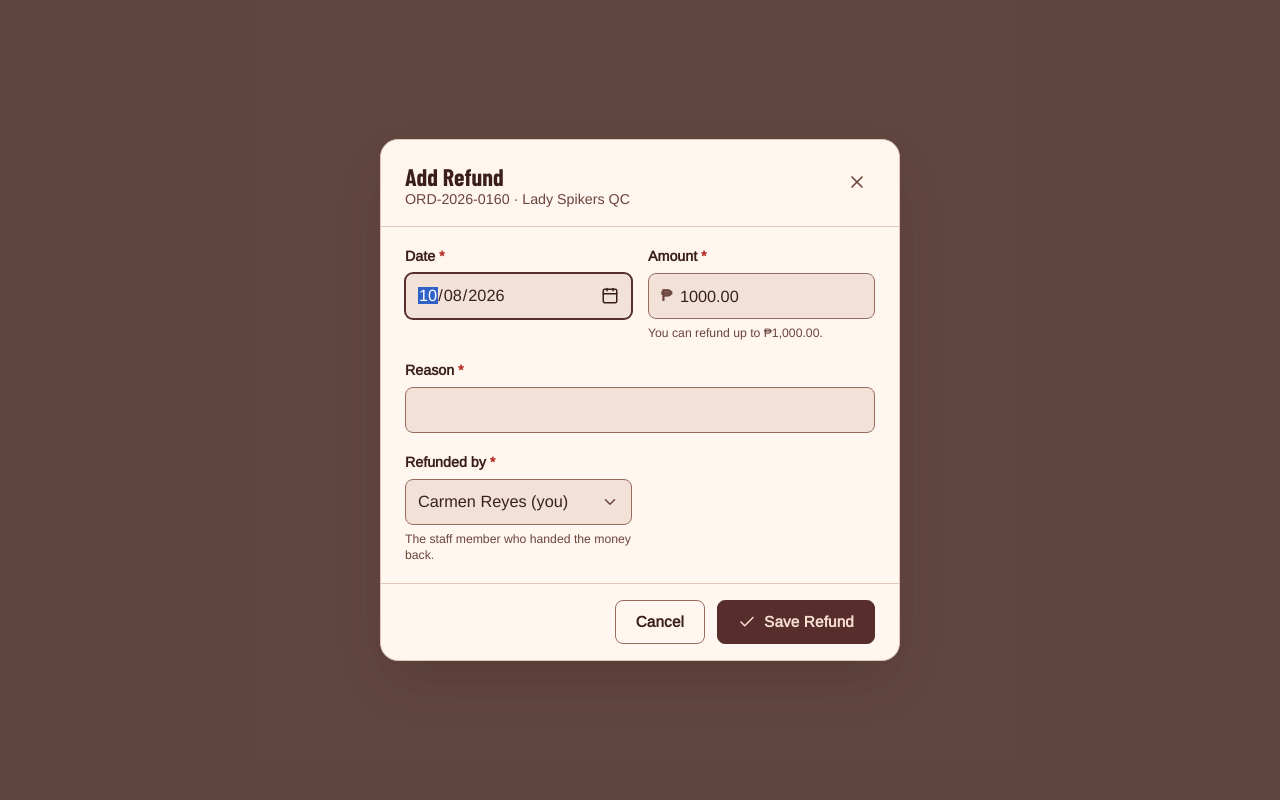
it: add mode checks before any request (OR-3) › asks for a reason and focuses it
Step 1. Click the button "Save Refund" → {"x": 796, "y": 622}, box [717,600,875,644]
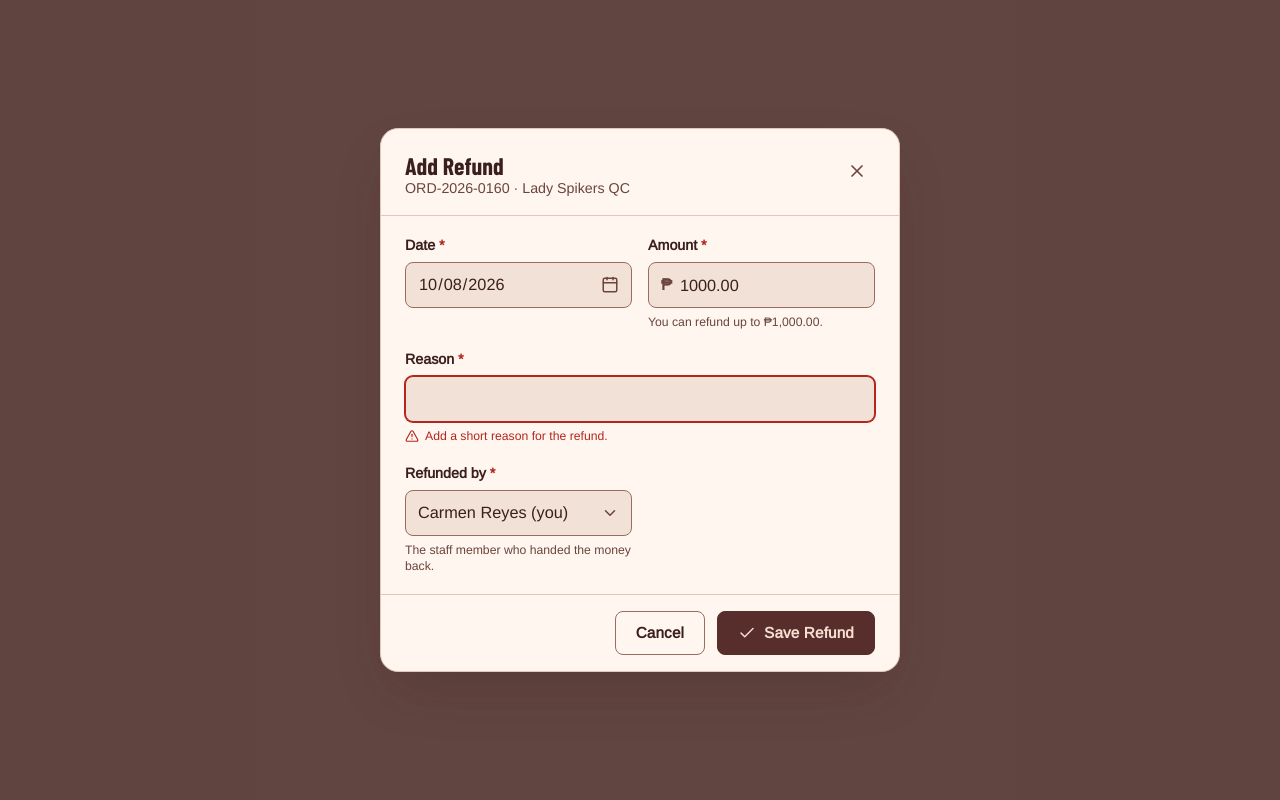
Now the text "Add a short reason for the refund." is shown, box [405,429,608,443]
